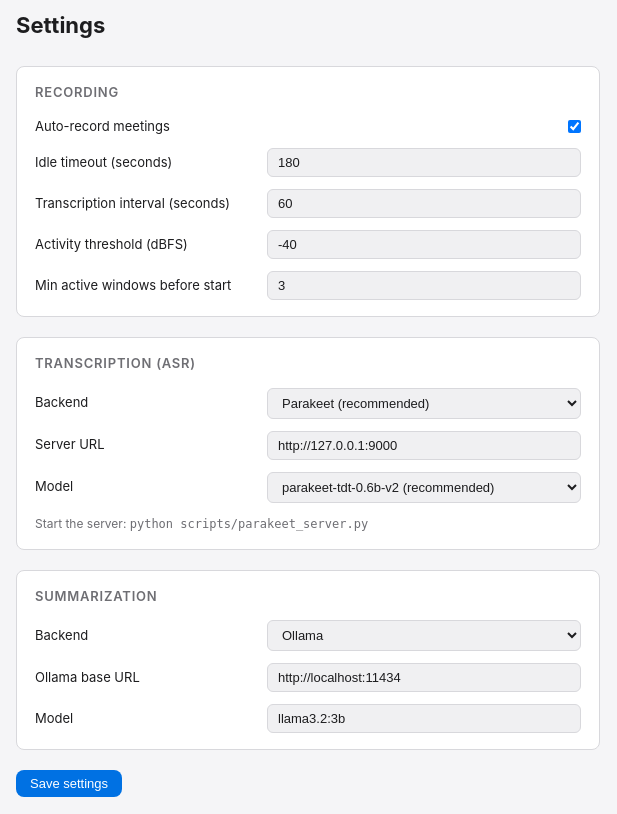
Test: SettingsPanel › shows hint when ASR is disabled
Select "None (disabled)" in the dropdown labelled "Backend" below "Transcription (ASR)": (424, 403) 267,388 -> 581,418
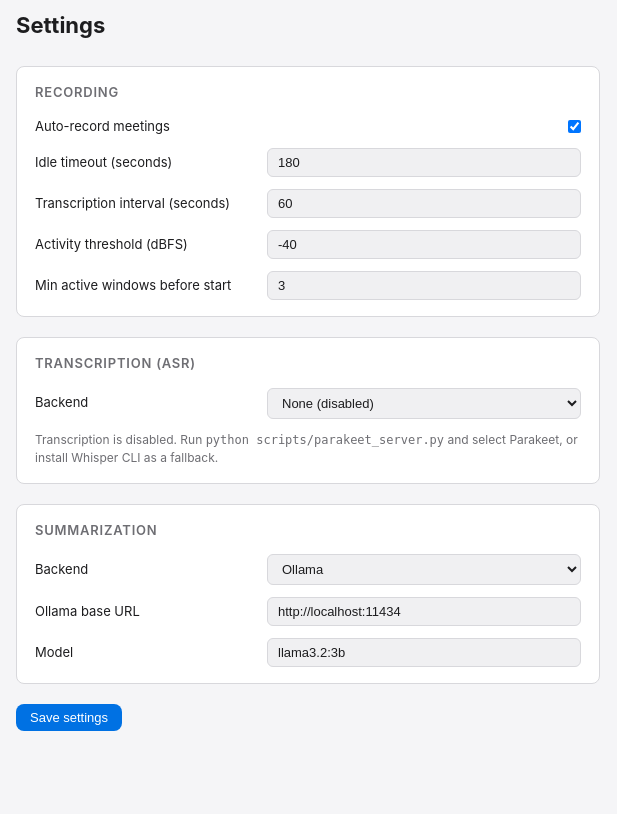
Now the text "Transcription is disabled" is shown, box 35,432 -> 202,446
